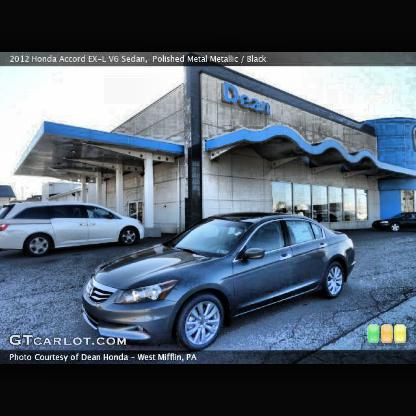Honda Accord Sedan 2012: (81, 213, 357, 353)
